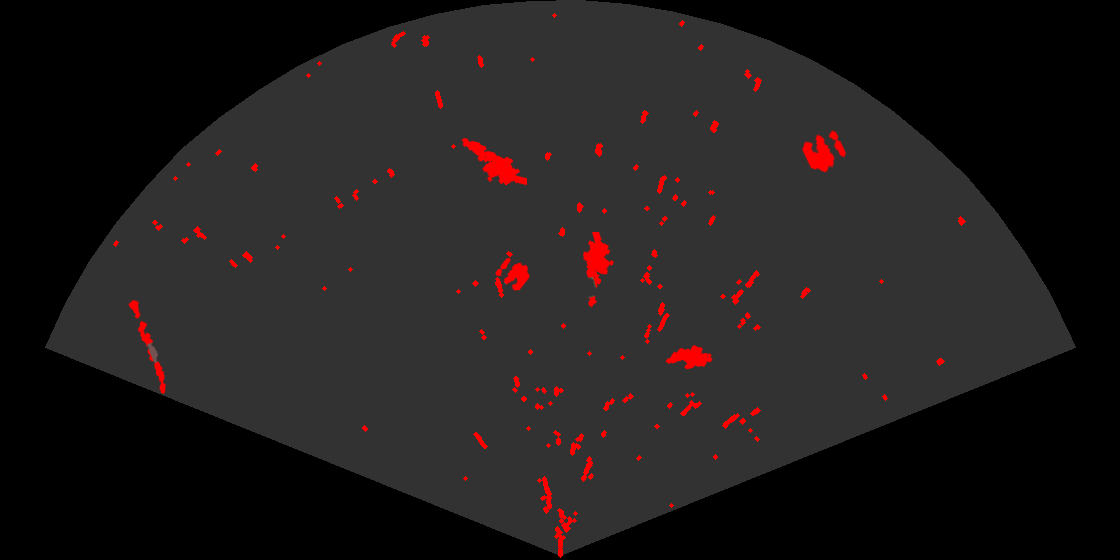AUV: (664, 344, 714, 371)
ball: (800, 128, 848, 174), (494, 256, 531, 292)
chain: (127, 298, 168, 396)
frogman: (460, 136, 527, 187), (581, 232, 615, 309)
